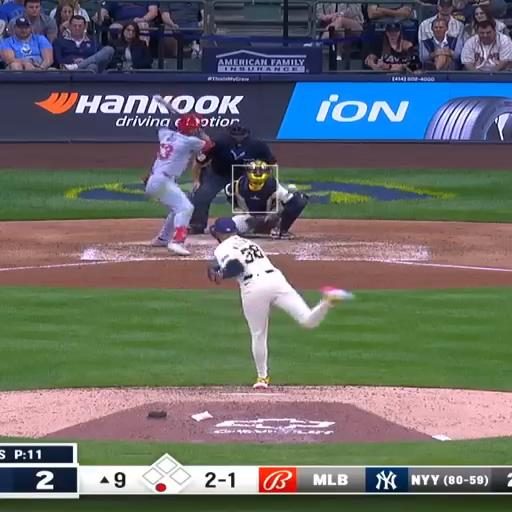bat: (153, 95, 179, 115)
